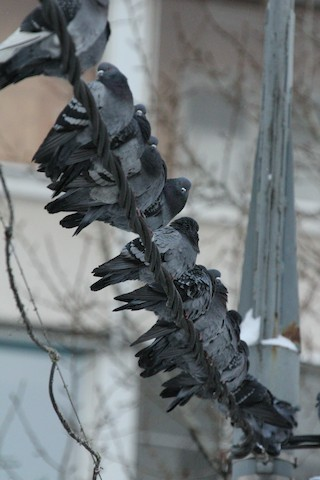pigeon: (57, 161, 210, 251), (30, 57, 137, 176), (132, 299, 250, 386), (88, 212, 207, 297)
